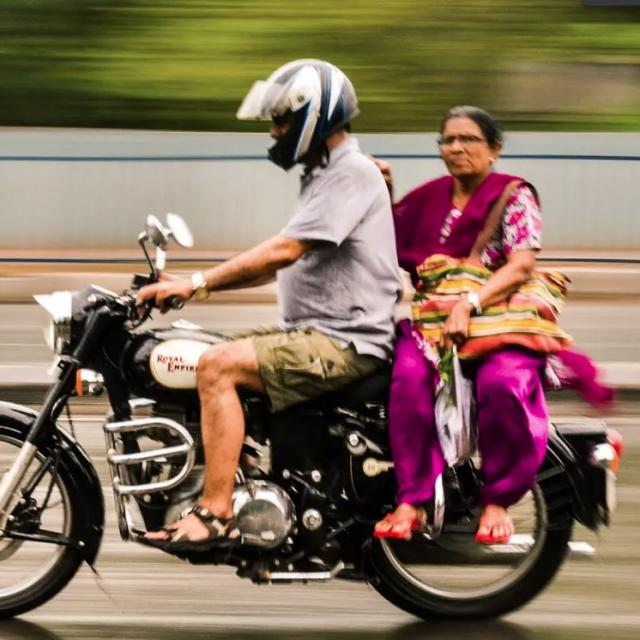With Helmet: (3, 55, 628, 626)
